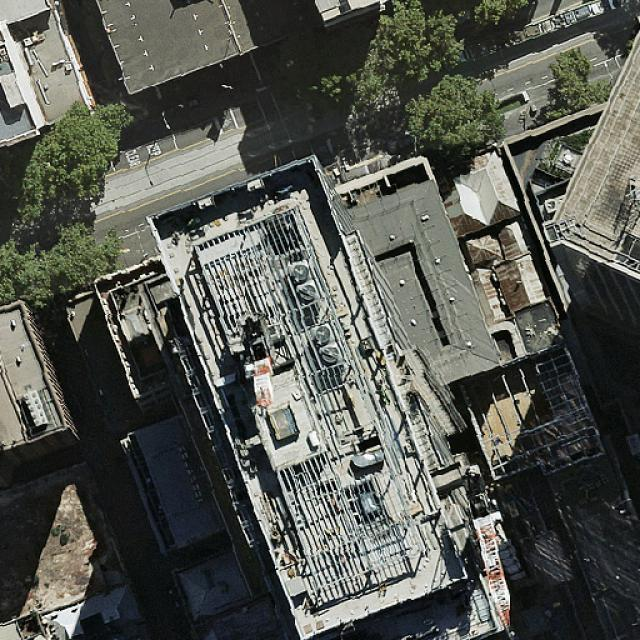Bike-Symbols: (220, 116, 233, 128)
